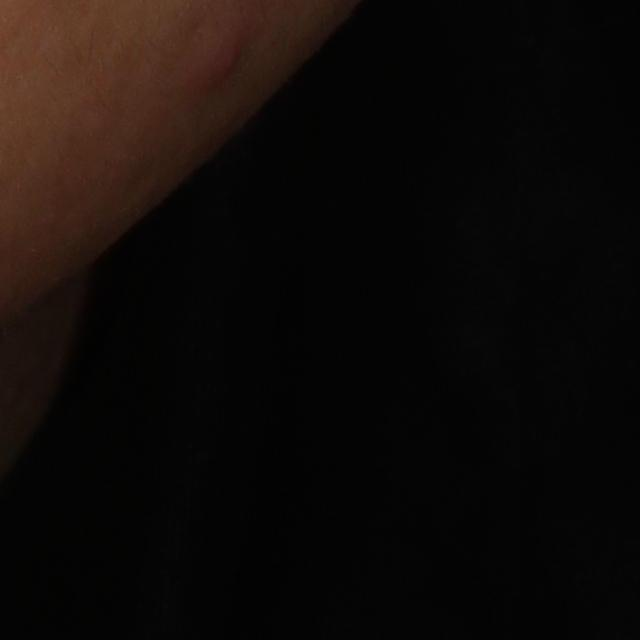papule: (185, 29, 253, 101)
